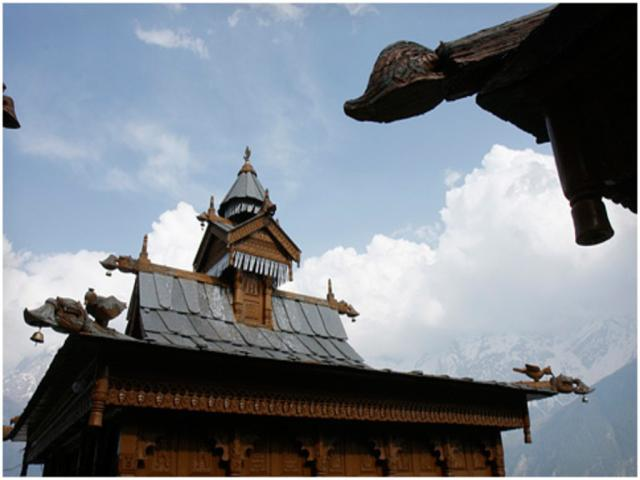Bird: (516, 361, 550, 380)
